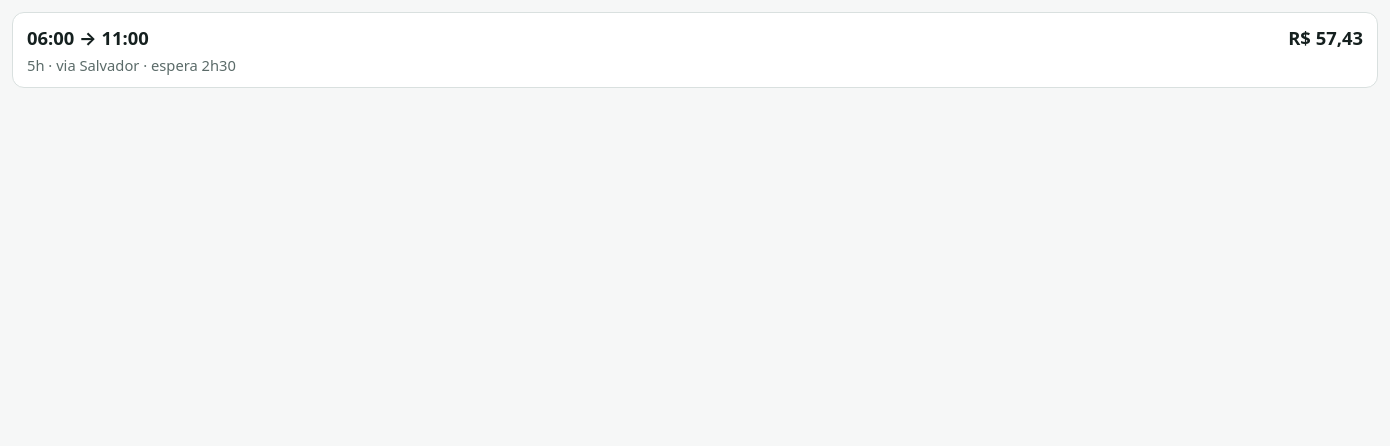
Test case: ConnectionCard › expandido: os dois trechos, cada um com "Comprar" em nova aba
Click the button at (51, 38), box [13,13,1377,87]
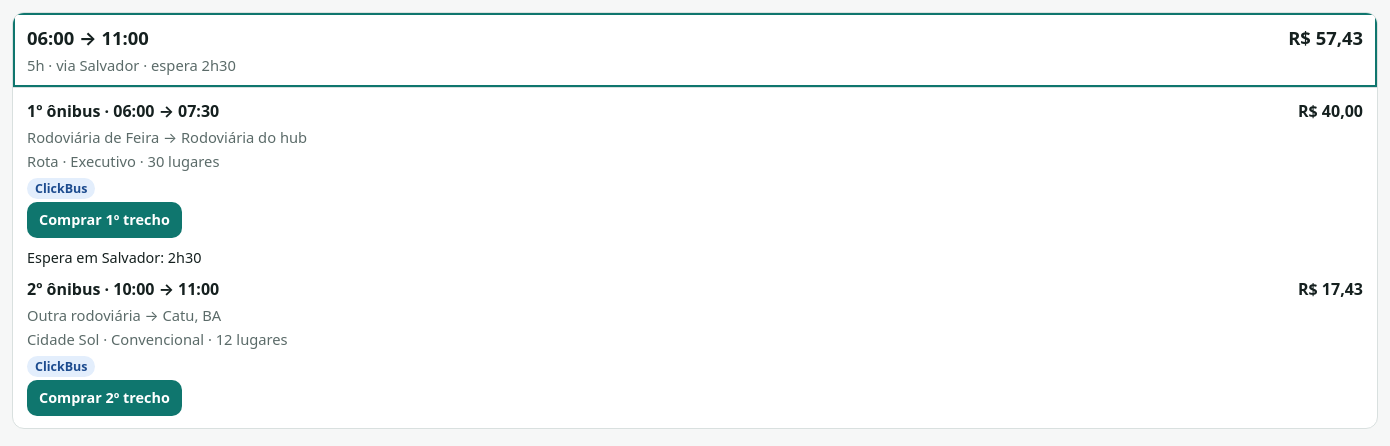
Expected: the text "Rota · Executivo · 30 lugares" is shown, [27,151,220,171]
